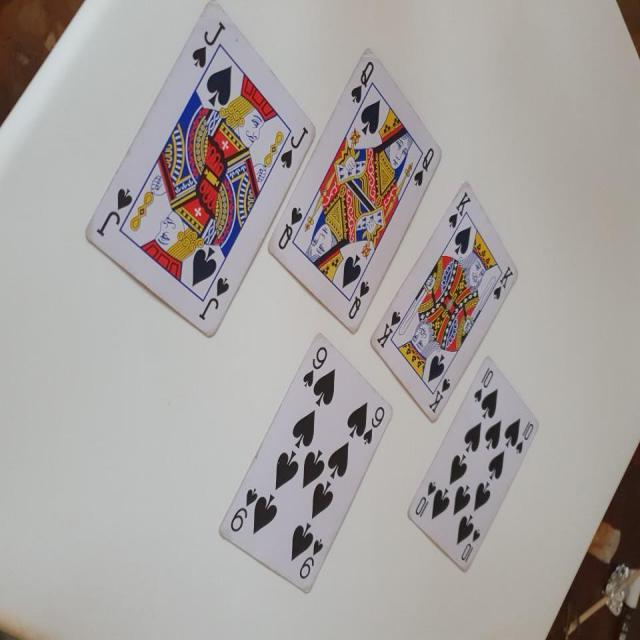10 of spades: (402, 348, 548, 576)
9 of spades: (212, 322, 399, 602)
jack of spades: (82, 0, 320, 345)
king of spades: (370, 168, 526, 425)
queen of spades: (271, 39, 444, 326)
